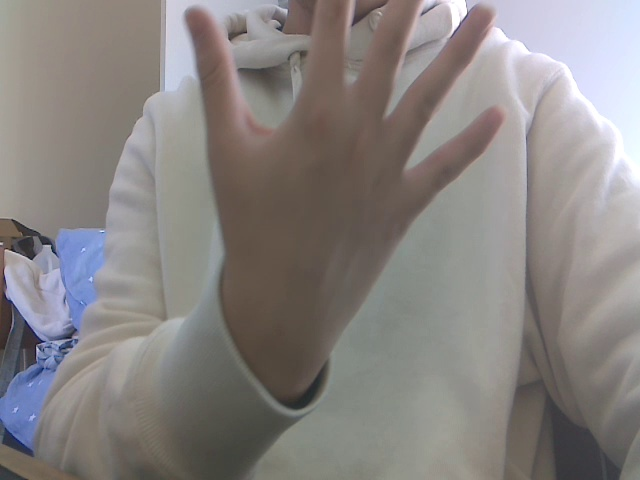hand_gesture_5: (155, 1, 530, 419)
